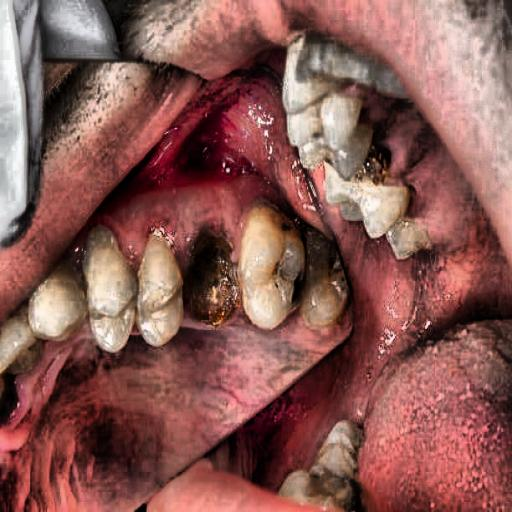Gingivitis: (122, 179, 259, 267)
